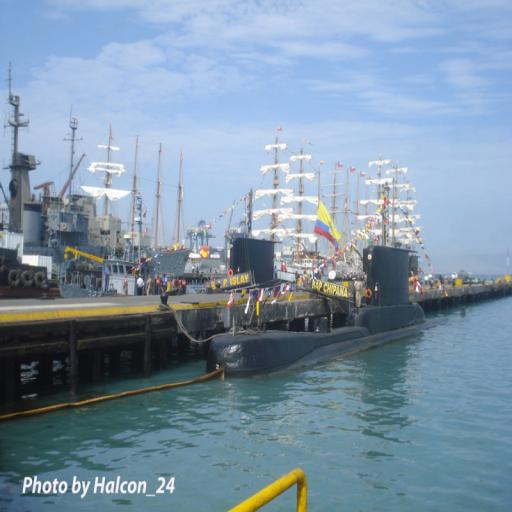submarine: (206, 246, 472, 382)
